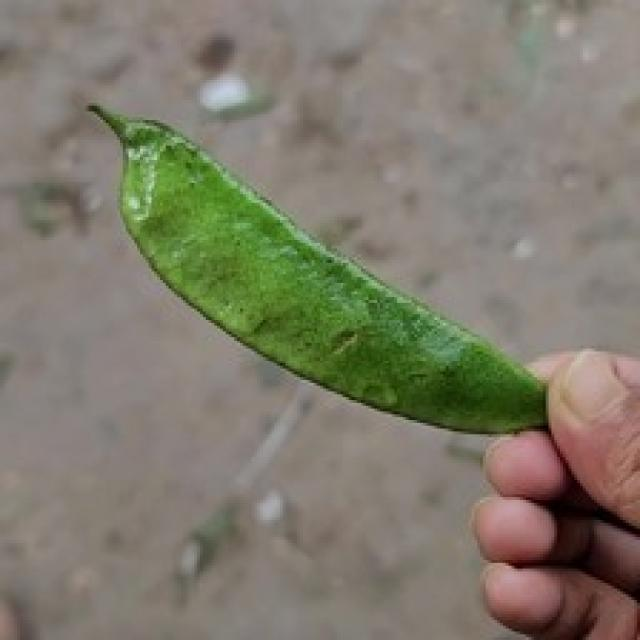Bean: (86, 100, 551, 434)
